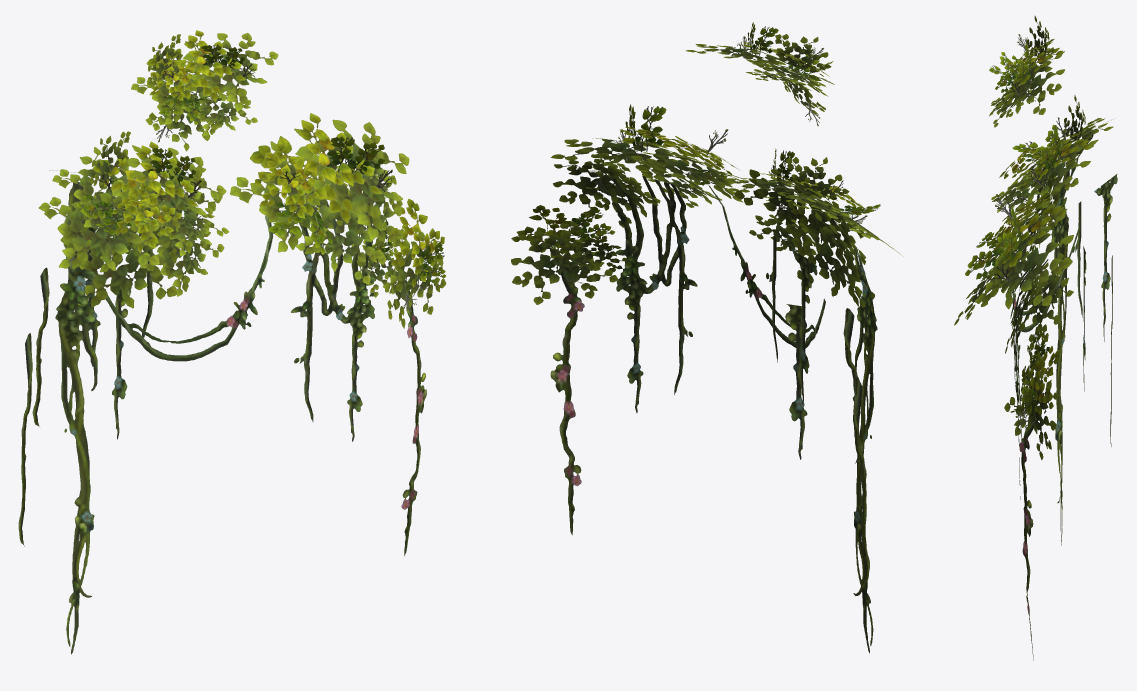
The model's file is S_Tree_Green065.FBX.
3 renders of one model, left to right at view 1: azimuth 30°, elevation 25°; view 2: azimuth 150°, elevation 25°; view 3: azimuth 270°, elevation 25°, orthographic. The views are drawn at different scales.
Parts seen in each view (by area): view 1: S_Tree_Green065; view 2: S_Tree_Green065; view 3: S_Tree_Green065.
Part boxes in pixels (box(x1,y1,x2,y2)): S_Tree_Green065: box(18, 30, 446, 654); S_Tree_Green065: box(511, 22, 903, 653); S_Tree_Green065: box(954, 16, 1117, 660).
Bounding box in the file's own units: 266 × 377 × 101.
